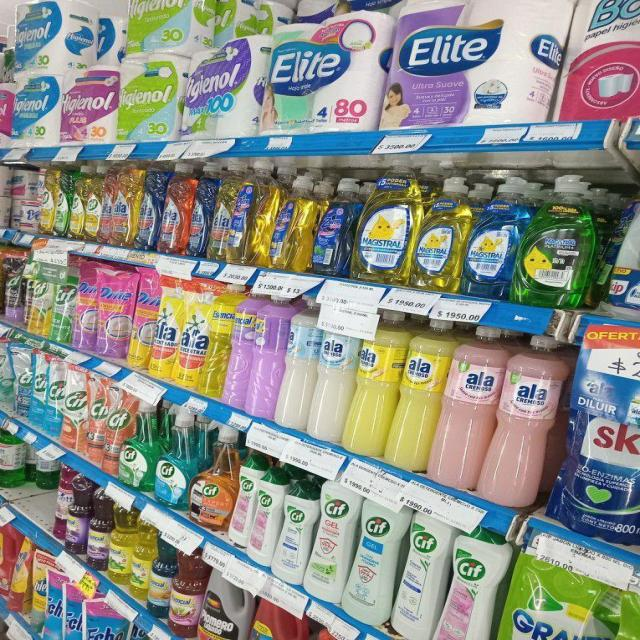ala_conc_amarillo: (211, 162, 233, 262), (113, 160, 137, 247)
ala_conc_azul: (138, 162, 161, 251), (190, 163, 210, 257)
ala_conc_rojo: (161, 161, 190, 255)
ala_crem_amarillo: (397, 318, 442, 476), (352, 310, 398, 462)
ala_crem_blanco: (314, 314, 353, 444), (282, 300, 314, 433)
ala_crem_rosado: (494, 344, 558, 508), (441, 334, 496, 492)
ala_sachet_amarillo: (180, 283, 208, 392), (154, 280, 179, 380)
cif_conc_bot_amarilla: (86, 164, 101, 242), (70, 164, 84, 240), (40, 165, 54, 235)
cif_conc_botella_verde: (55, 165, 69, 238)
cif_conc_sachet_verde: (51, 260, 71, 342)
drive: (133, 270, 155, 373)
magistral_con_amarillo: (355, 170, 413, 285), (414, 176, 464, 292)
magistral_con_azul: (465, 181, 519, 300)
zorro: (314, 175, 353, 277)
